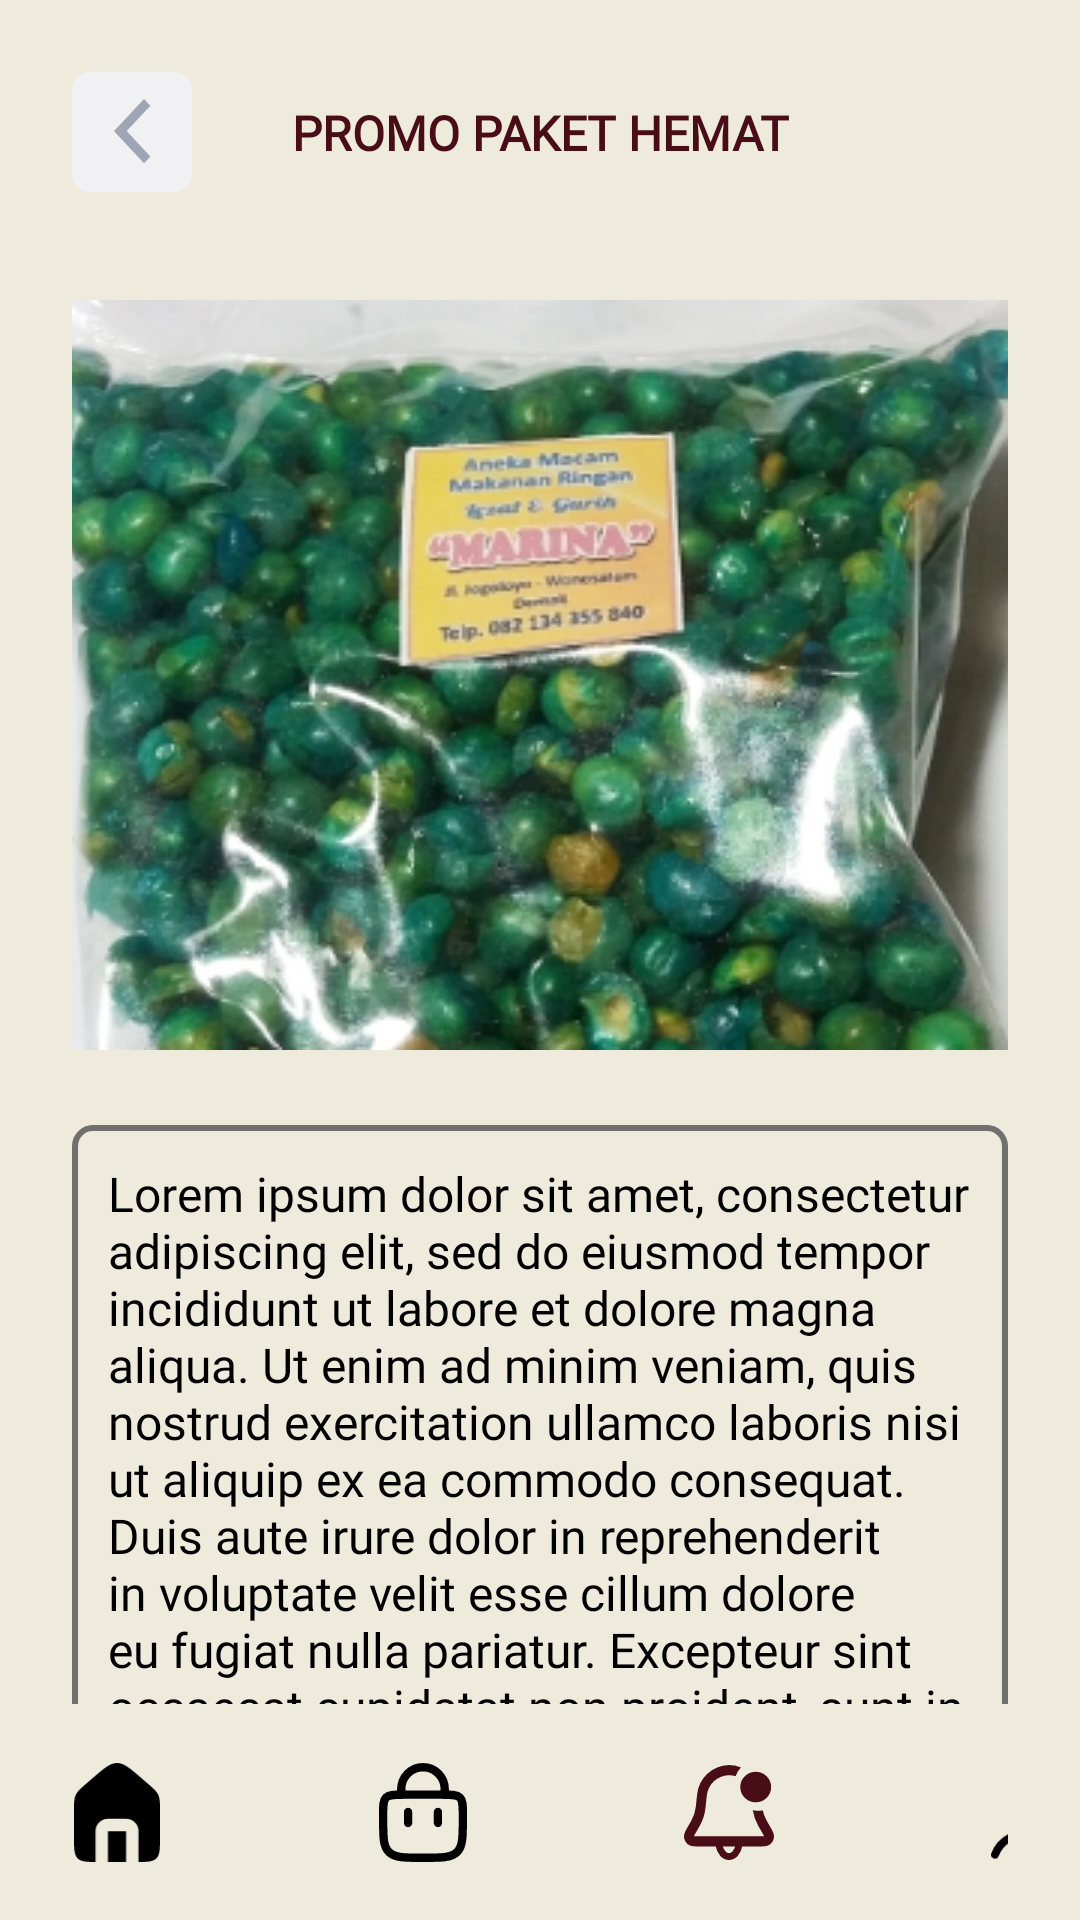

Screen size 1080px x 1920px. Icon name, then its center in pixels as (x,y):
back: (132,132)
cart: (423,1812)
home: (117,1812)
notification: (729,1812)
